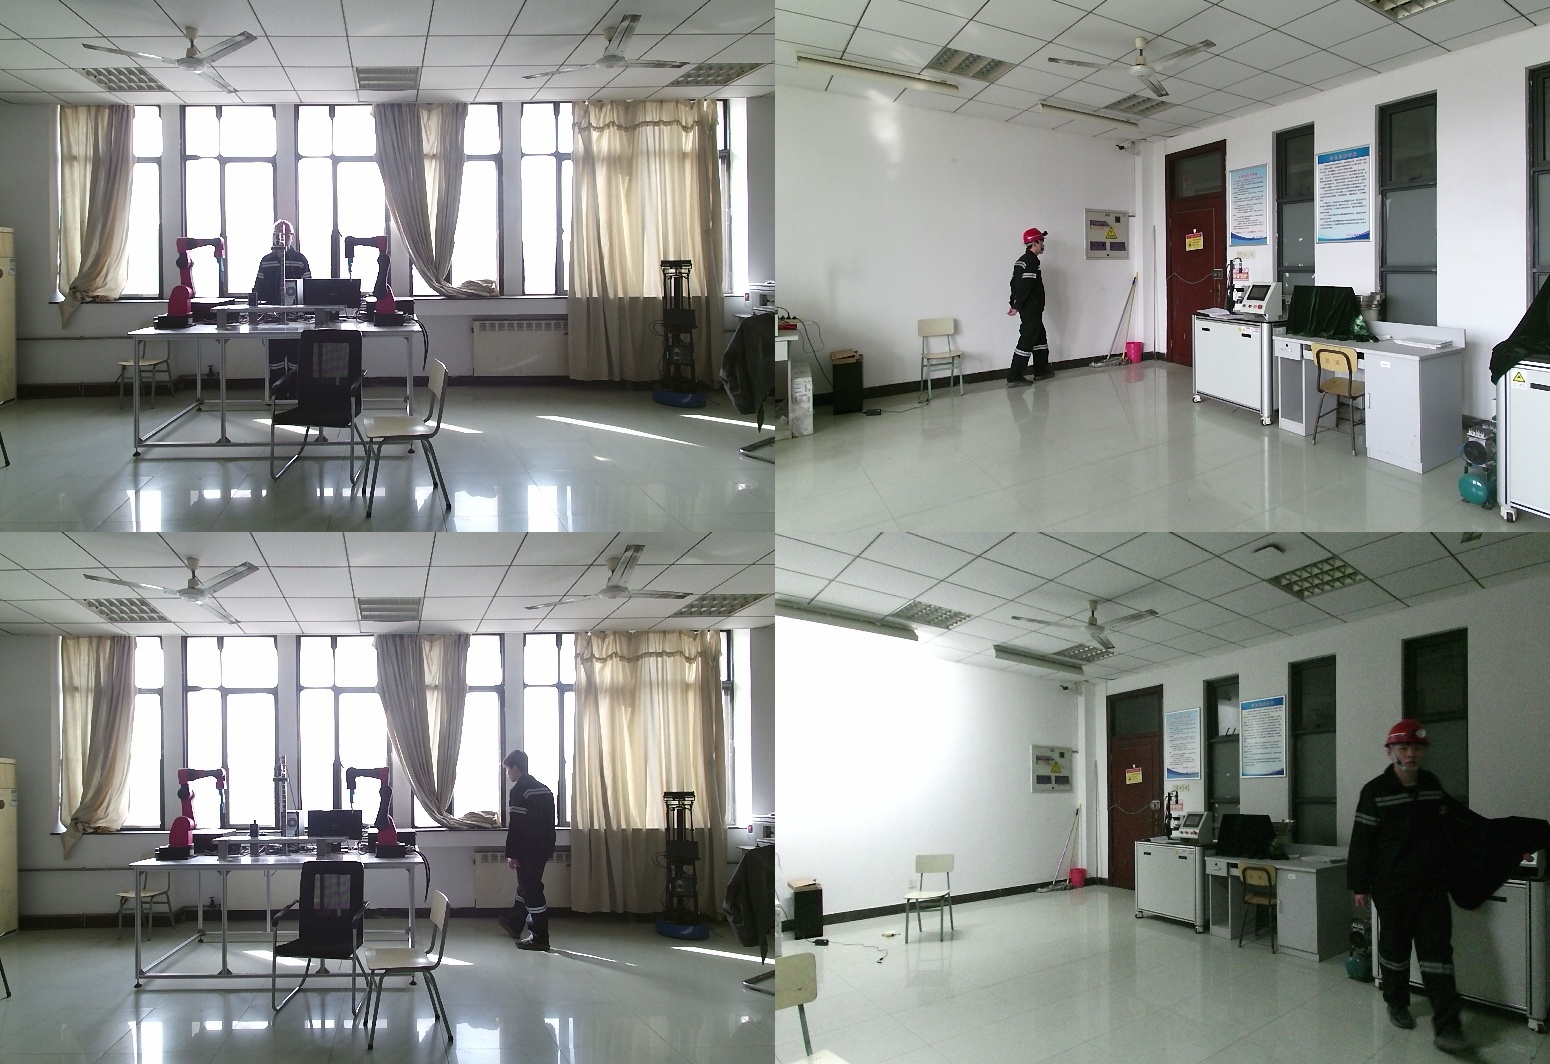person: (1354, 719, 1485, 1040), (497, 748, 563, 955), (251, 222, 312, 402), (1007, 232, 1054, 391)
